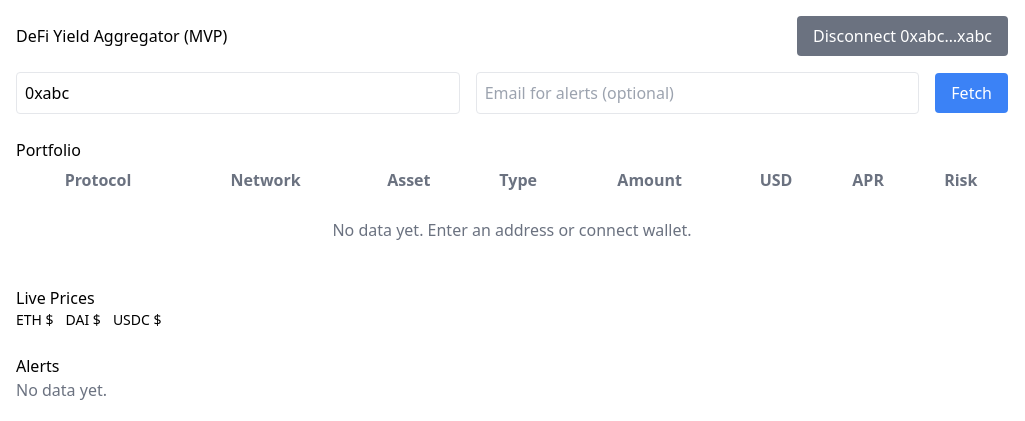
Test: App summary › renders total and daily yield
Expected: the field showing "0xabc" is shown, left=16, top=72, right=460, bottom=114
Click the button "Fetch" at (972, 93), box left=935, top=73, right=1008, bottom=113
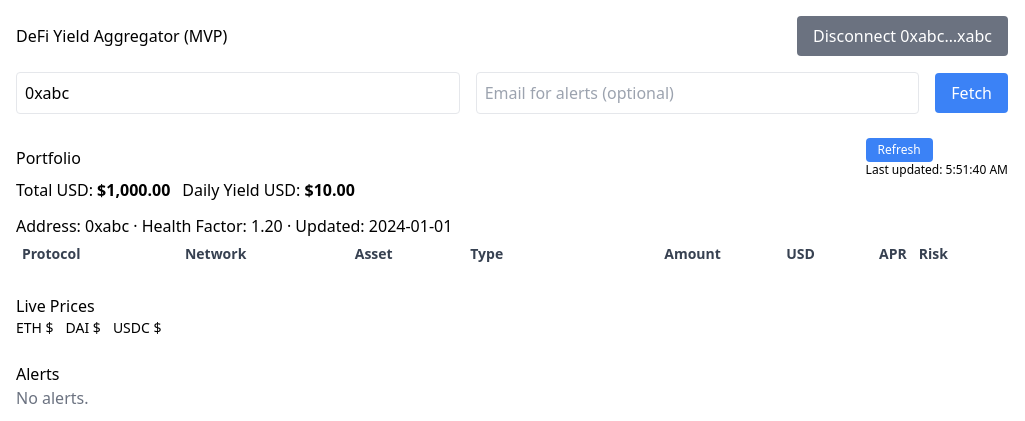
Expected: the text "Total USD: $1,000.00" is shown, left=16, top=179, right=170, bottom=201
Expected: the text "Daily Yield USD: $10.00" is shown, left=182, top=179, right=355, bottom=201
